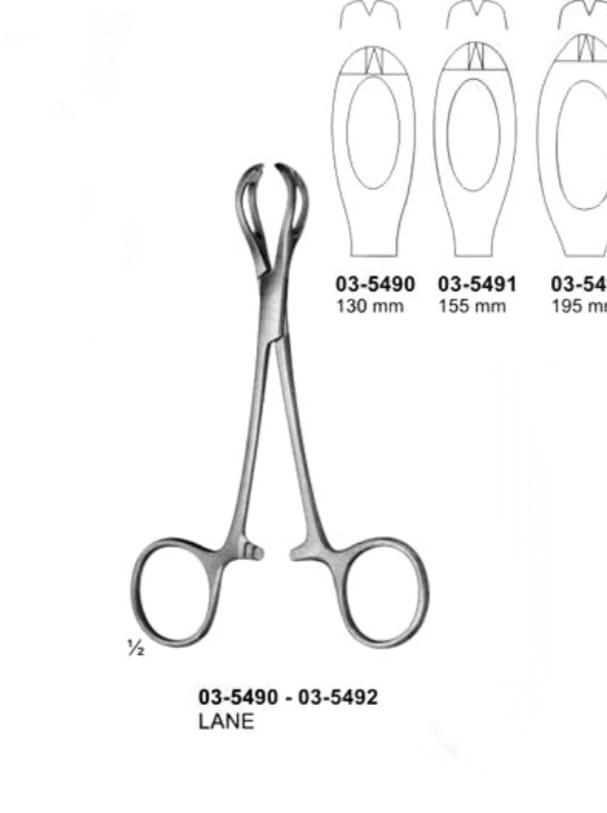Lane Tissue Forceps: (115, 155, 438, 648)
